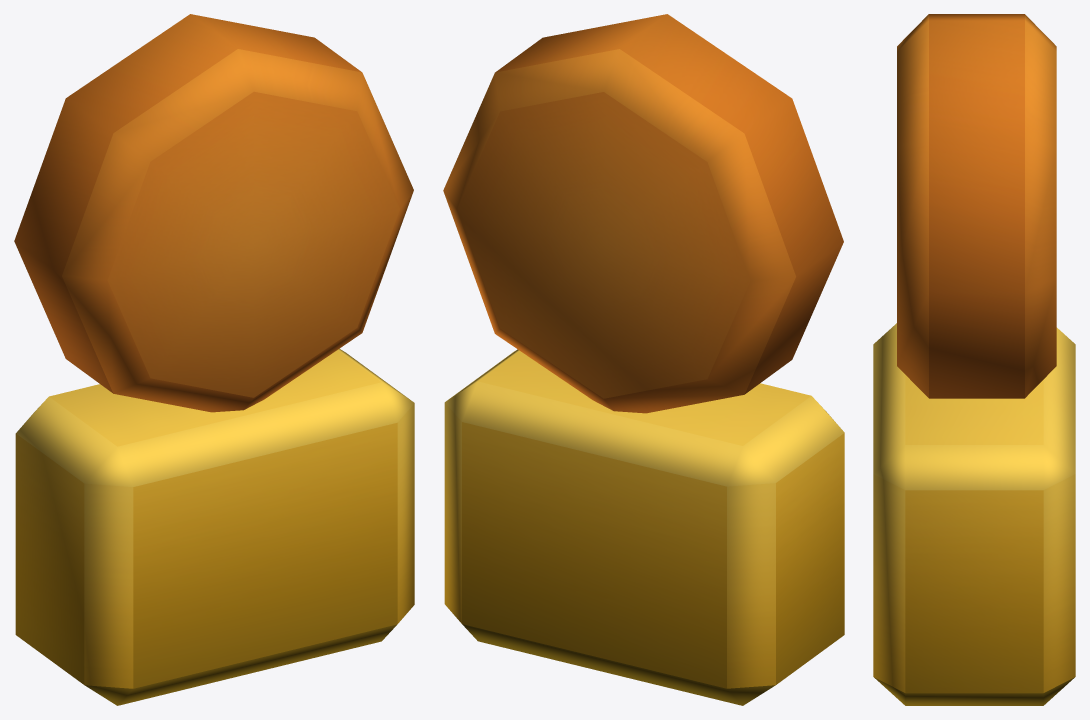
The model's file is signal_lamp.fbx.
The picture shows the model from 3 angles, left to right: view 1: azimuth 30°, elevation 25°; view 2: azimuth 150°, elevation 25°; view 3: azimuth 270°, elevation 25°; orthographic projection.
Parts seen in each view (by area): view 1: signal_lamp; view 2: signal_lamp; view 3: signal_lamp.
Part boxes in pixels (left/top/right/bottom): signal_lamp: left=14, top=14, right=414, bottom=705; signal_lamp: left=443, top=14, right=844, bottom=705; signal_lamp: left=873, top=14, right=1075, bottom=705.
Size of the model in its own units: 51.18 by 85.59 by 25.26.
